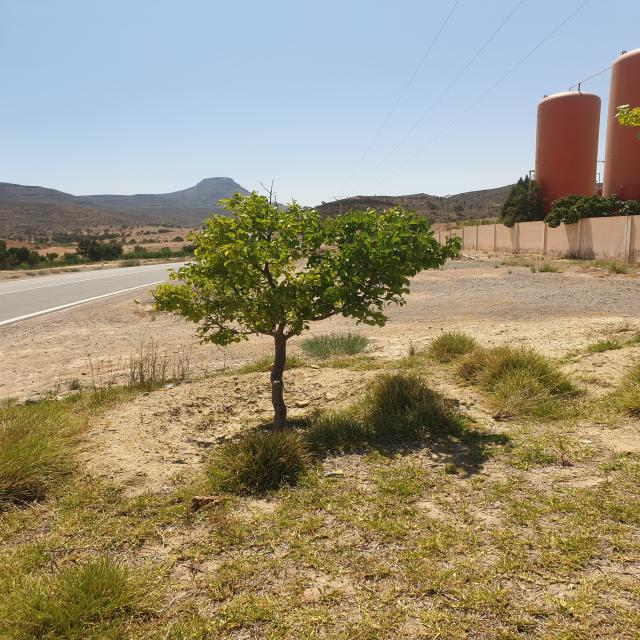Tree: (151, 192, 461, 428)
